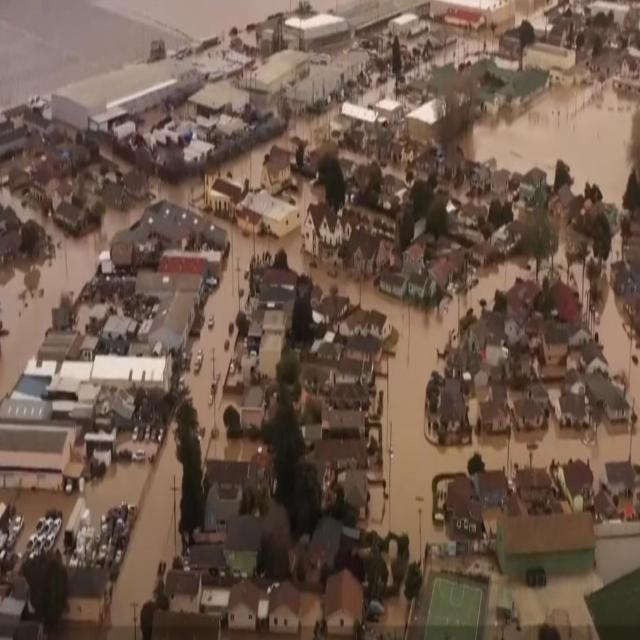flood: (0, 0, 298, 105), (362, 280, 472, 558), (0, 206, 139, 396), (462, 85, 636, 201), (86, 432, 180, 624), (187, 225, 253, 450), (255, 230, 361, 301), (533, 416, 631, 465), (461, 255, 530, 313), (9, 490, 72, 534), (600, 289, 632, 374), (209, 390, 250, 456), (230, 143, 269, 184), (278, 108, 316, 148), (161, 176, 201, 204), (474, 436, 508, 467), (632, 339, 640, 459), (370, 486, 389, 526), (317, 107, 328, 142)
house: (496, 509, 596, 574), (91, 342, 173, 404), (238, 184, 300, 237), (324, 566, 365, 640), (150, 295, 199, 353), (303, 201, 344, 267), (64, 567, 109, 626), (446, 476, 483, 546), (156, 247, 210, 282), (260, 146, 296, 196), (269, 580, 300, 638), (227, 579, 258, 635), (166, 568, 202, 614), (208, 174, 242, 218), (474, 465, 510, 506), (512, 395, 544, 431), (556, 394, 588, 430), (240, 383, 266, 426), (379, 265, 408, 301), (479, 399, 508, 432), (448, 6, 483, 30), (514, 400, 544, 427), (606, 390, 629, 424), (368, 306, 391, 338), (506, 314, 524, 347), (403, 242, 423, 263), (375, 240, 388, 266)
